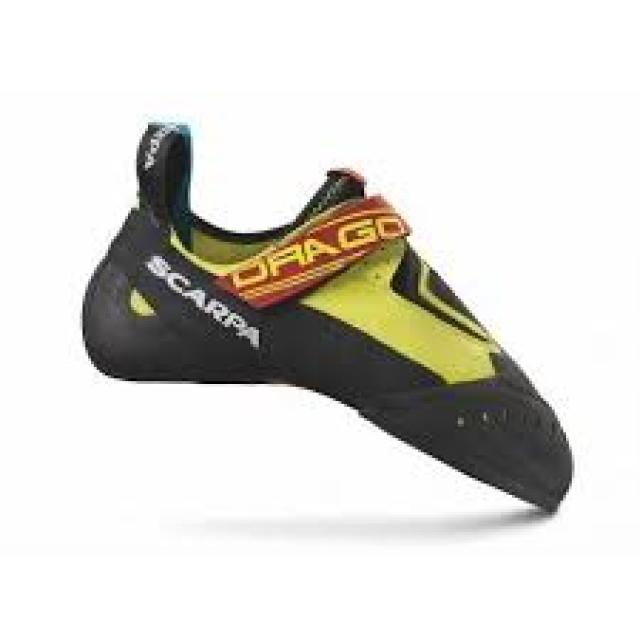climbing-shoes: (82, 117, 576, 515)
